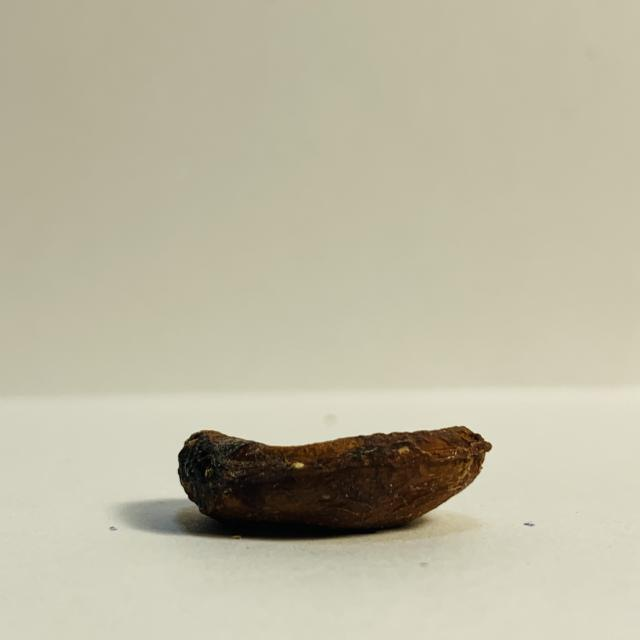Flat_cocoabeans: (96, 379, 558, 554)
